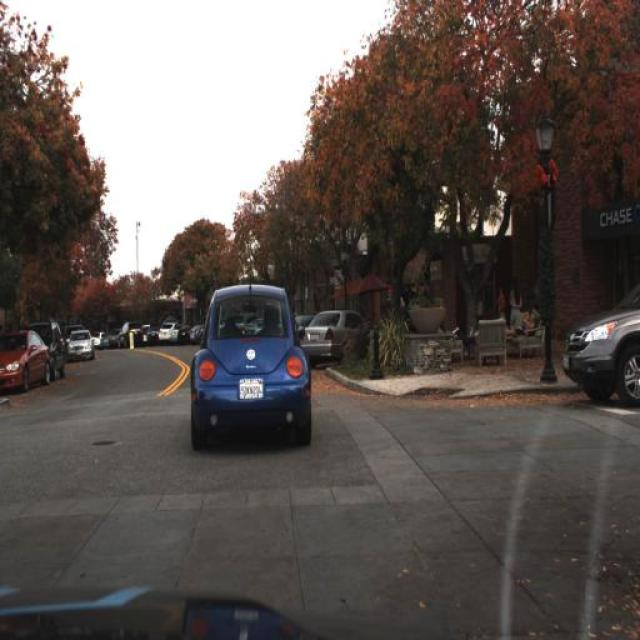car: (187, 269, 314, 456), (562, 280, 639, 408), (300, 302, 366, 364), (1, 328, 53, 388), (42, 314, 68, 378), (118, 314, 146, 351), (67, 328, 94, 363), (158, 320, 178, 344)
trafficLight: (502, 304, 542, 344), (509, 273, 523, 331), (496, 286, 506, 324)
